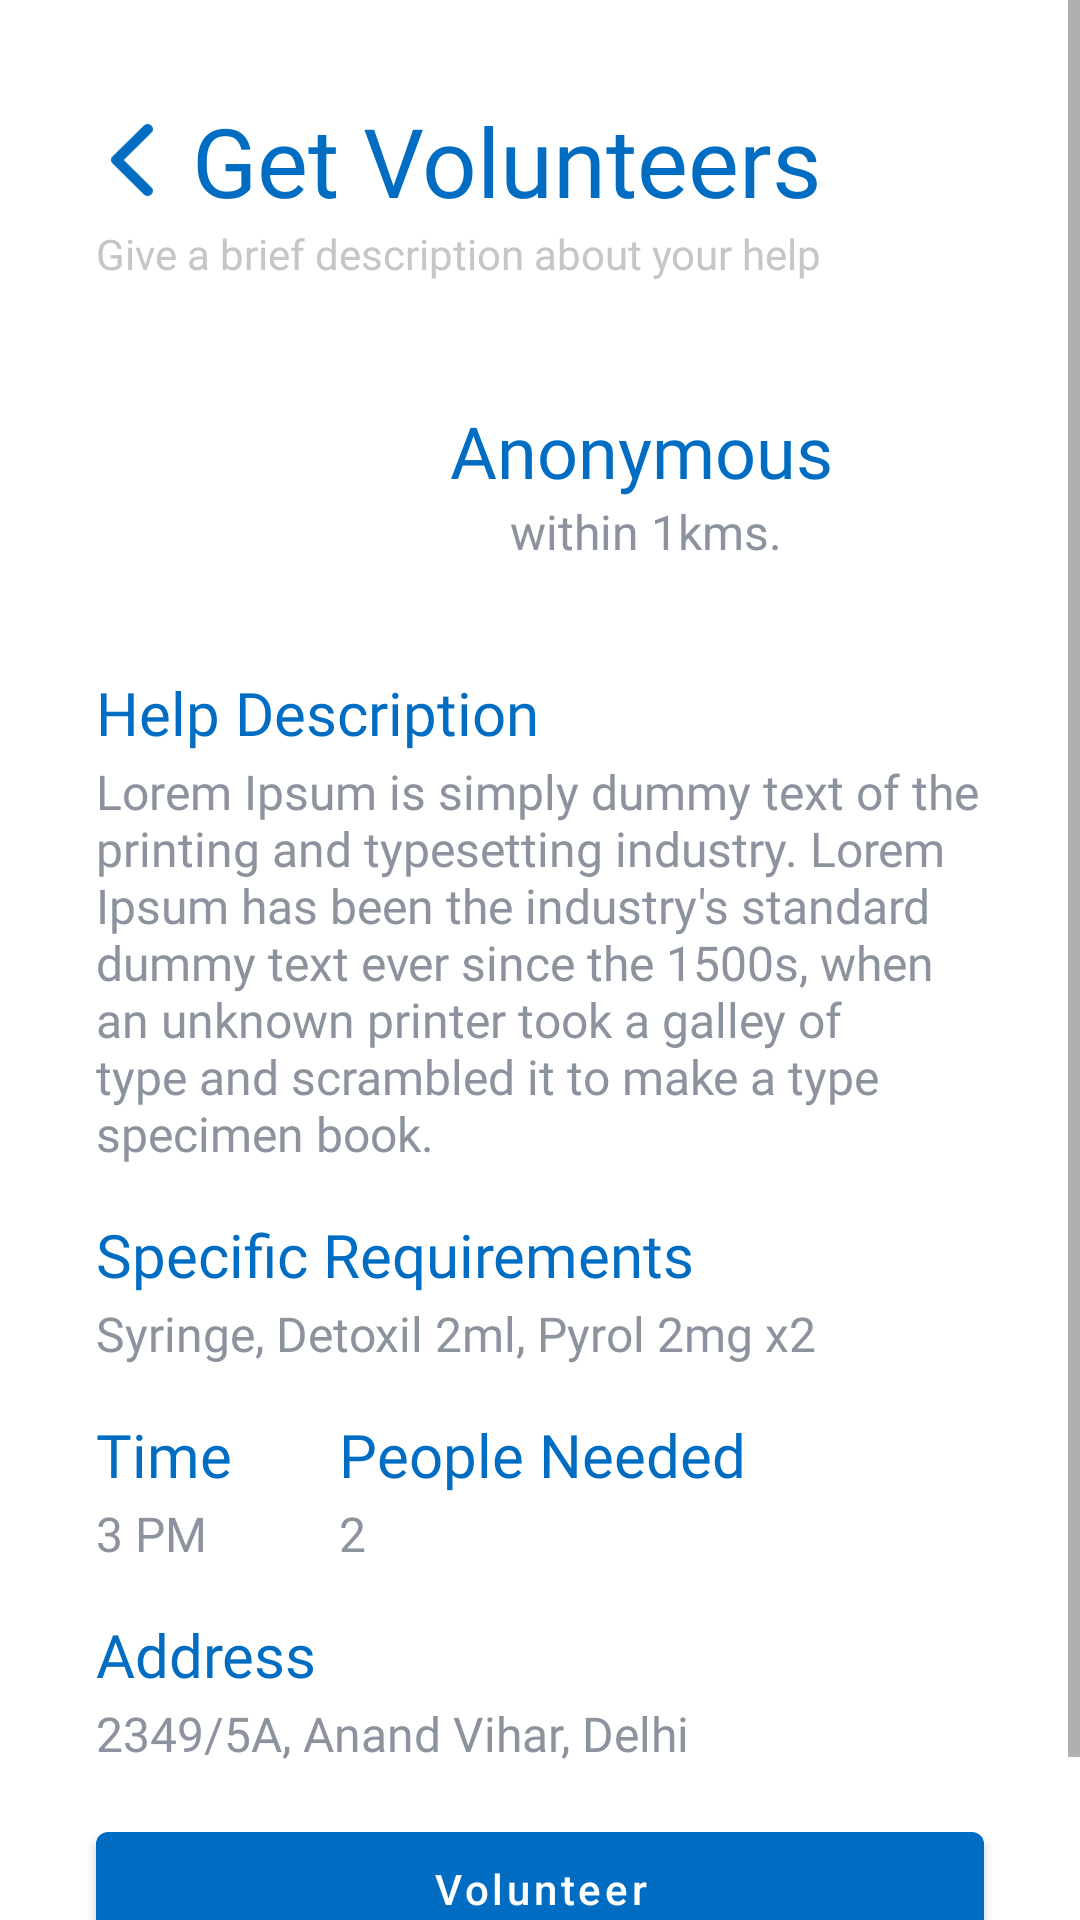

Icon bounding boxes for this 1080px×1920px phone screenshot, format Rect(x1, y1, x2, y2):
back: Rect(111, 124, 153, 196)
